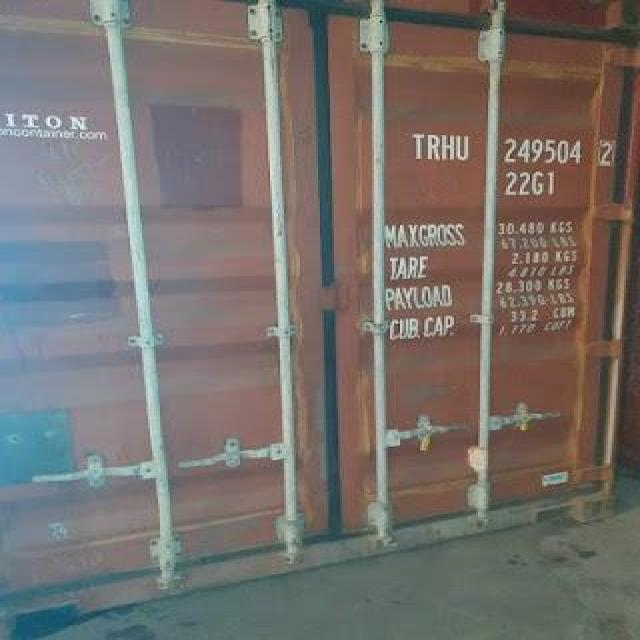ISO: (504, 170, 556, 198)
container_number: (412, 132, 610, 169)
